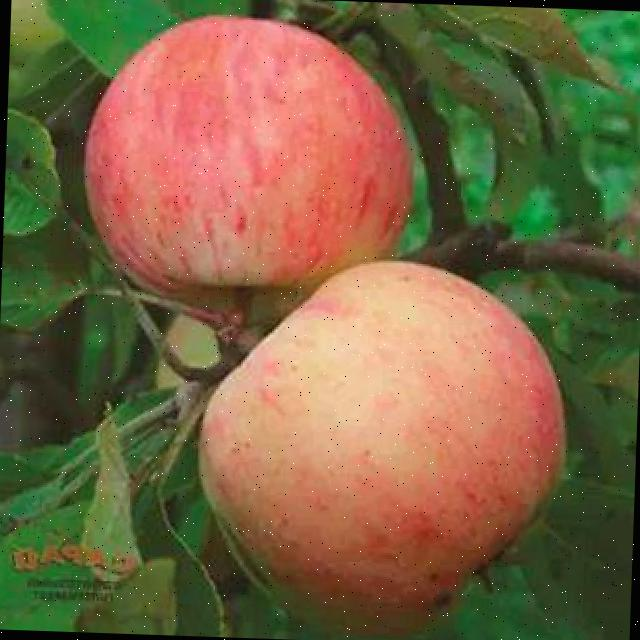apple: (155, 228, 597, 640), (46, 0, 421, 379)
